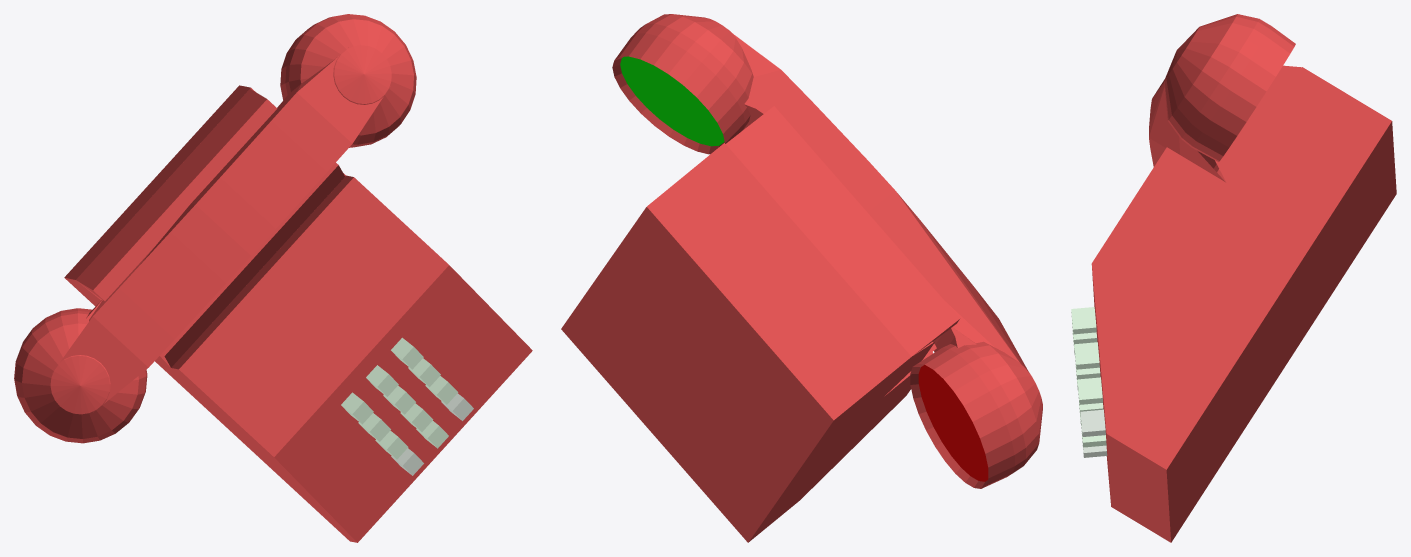
The model's file is PHONE.glb.
The picture shows the model from 3 angles, left to right: view 1: azimuth 30°, elevation 25°; view 2: azimuth 150°, elevation 25°; view 3: azimuth 270°, elevation 25°; orthographic projection. The views are drawn at different scales.
Visible parts, largest first — view 1: _0; view 2: _0; view 3: _0.
Boxes of the visible parts, bbox=[...] form: _0: bbox=[14, 14, 532, 542]; _0: bbox=[561, 14, 1042, 542]; _0: bbox=[1071, 14, 1396, 542].
Bounding box in the file's own units: 7.97 × 8.03 × 4.41.
